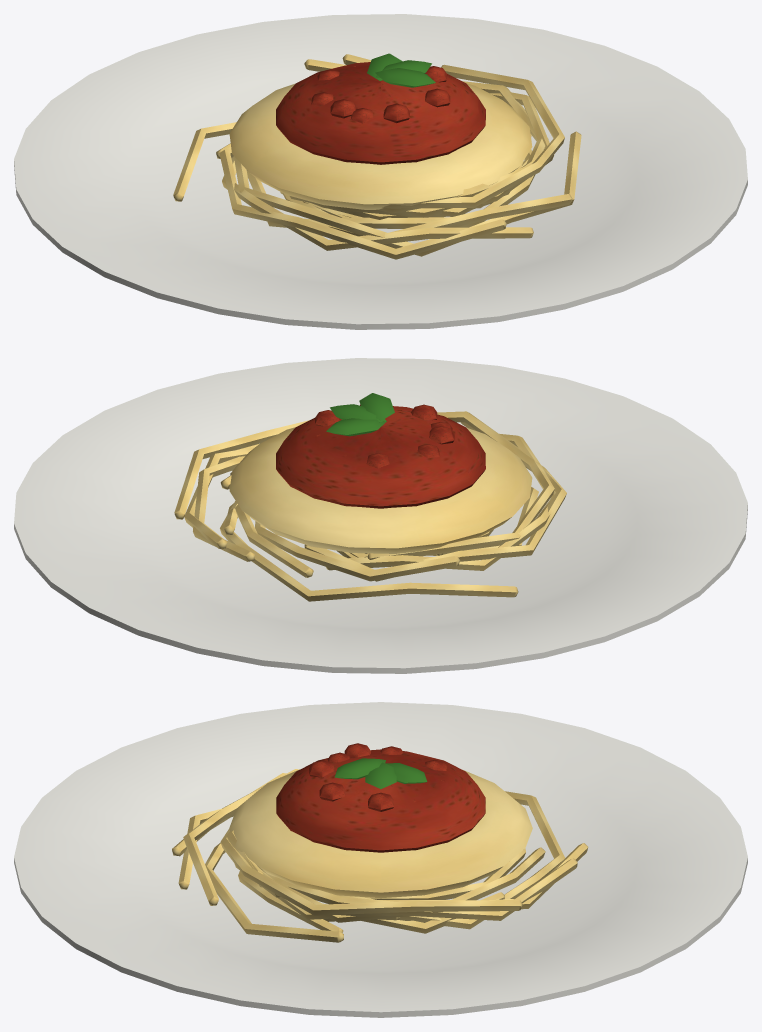
The model's file is meal_spaghetti_bolognese.glb.
3 renders of one model, top to bottom at view 1: azimuth 30°, elevation 25°; view 2: azimuth 150°, elevation 25°; view 3: azimuth 270°, elevation 25°, orthographic.
Visible parts, largest first — view 1: meal_spaghetti_bolognese; view 2: meal_spaghetti_bolognese; view 3: meal_spaghetti_bolognese.
Boxes of the visible parts, x1,y1,x2,y2 form: meal_spaghetti_bolognese: (14, 14, 747, 329); meal_spaghetti_bolognese: (14, 358, 747, 673); meal_spaghetti_bolognese: (14, 702, 747, 1017).
Bounding box in the file's own units: 0.29 × 0.0633 × 0.29.
Materials: 5 (2 with a texture image).
